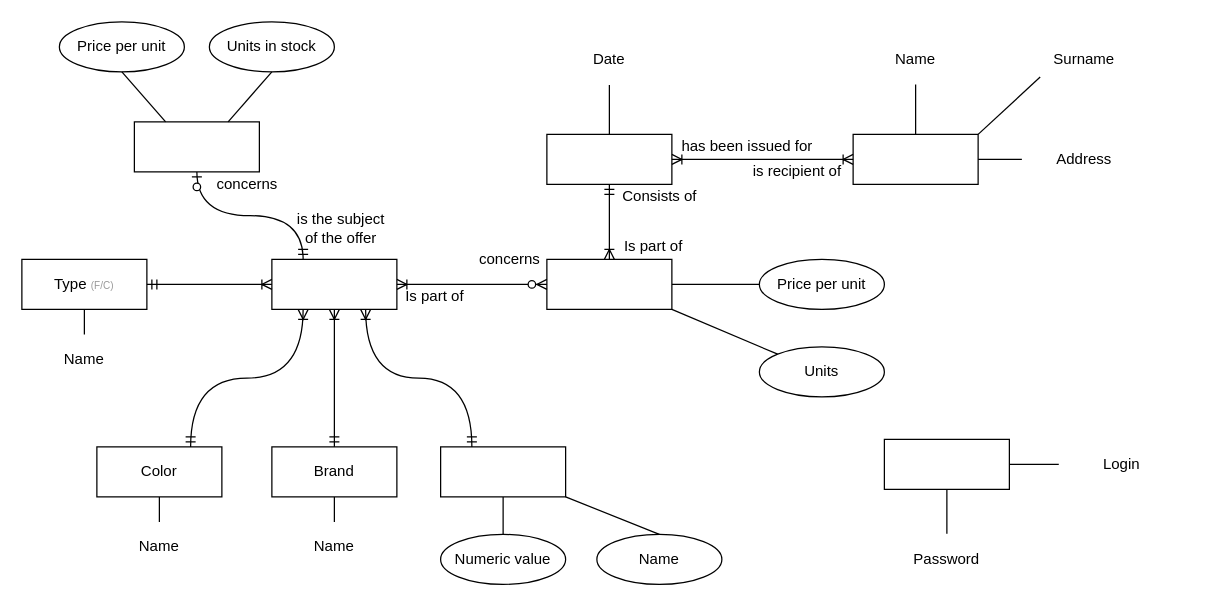
The diagram is 1206 pixels wide and 606 high, and some of its shapes have lost their labels. The centre of each missing label's shape, as x and y in pixels:
"Clients" goes at point 915,158.
"Coverage level" goes at point 502,471.
"Invoice line" goes at point 609,283.
"Invoices" goes at point 609,158.
"Offer" goes at point 196,146.
"Product" goes at point 334,283.
"Users" goes at point 946,463.
